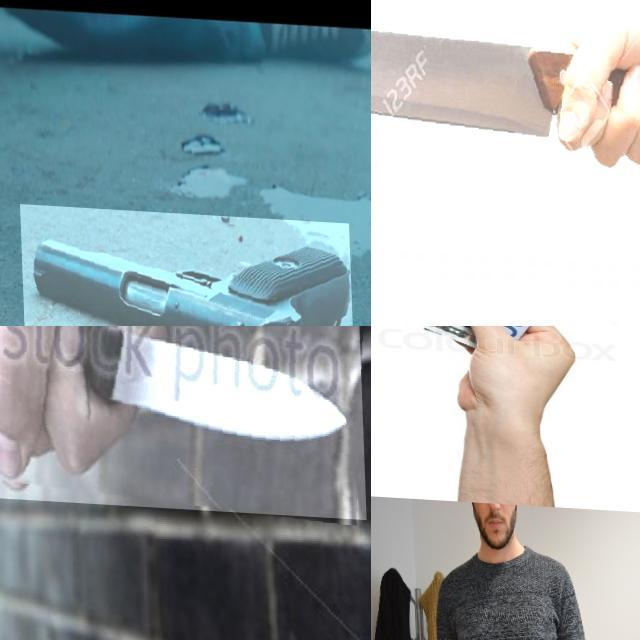-: (0, 326, 363, 512), (371, 0, 640, 176)
gun-knife-thesis - v11 Yolov5 augmented: (17, 201, 351, 326)
